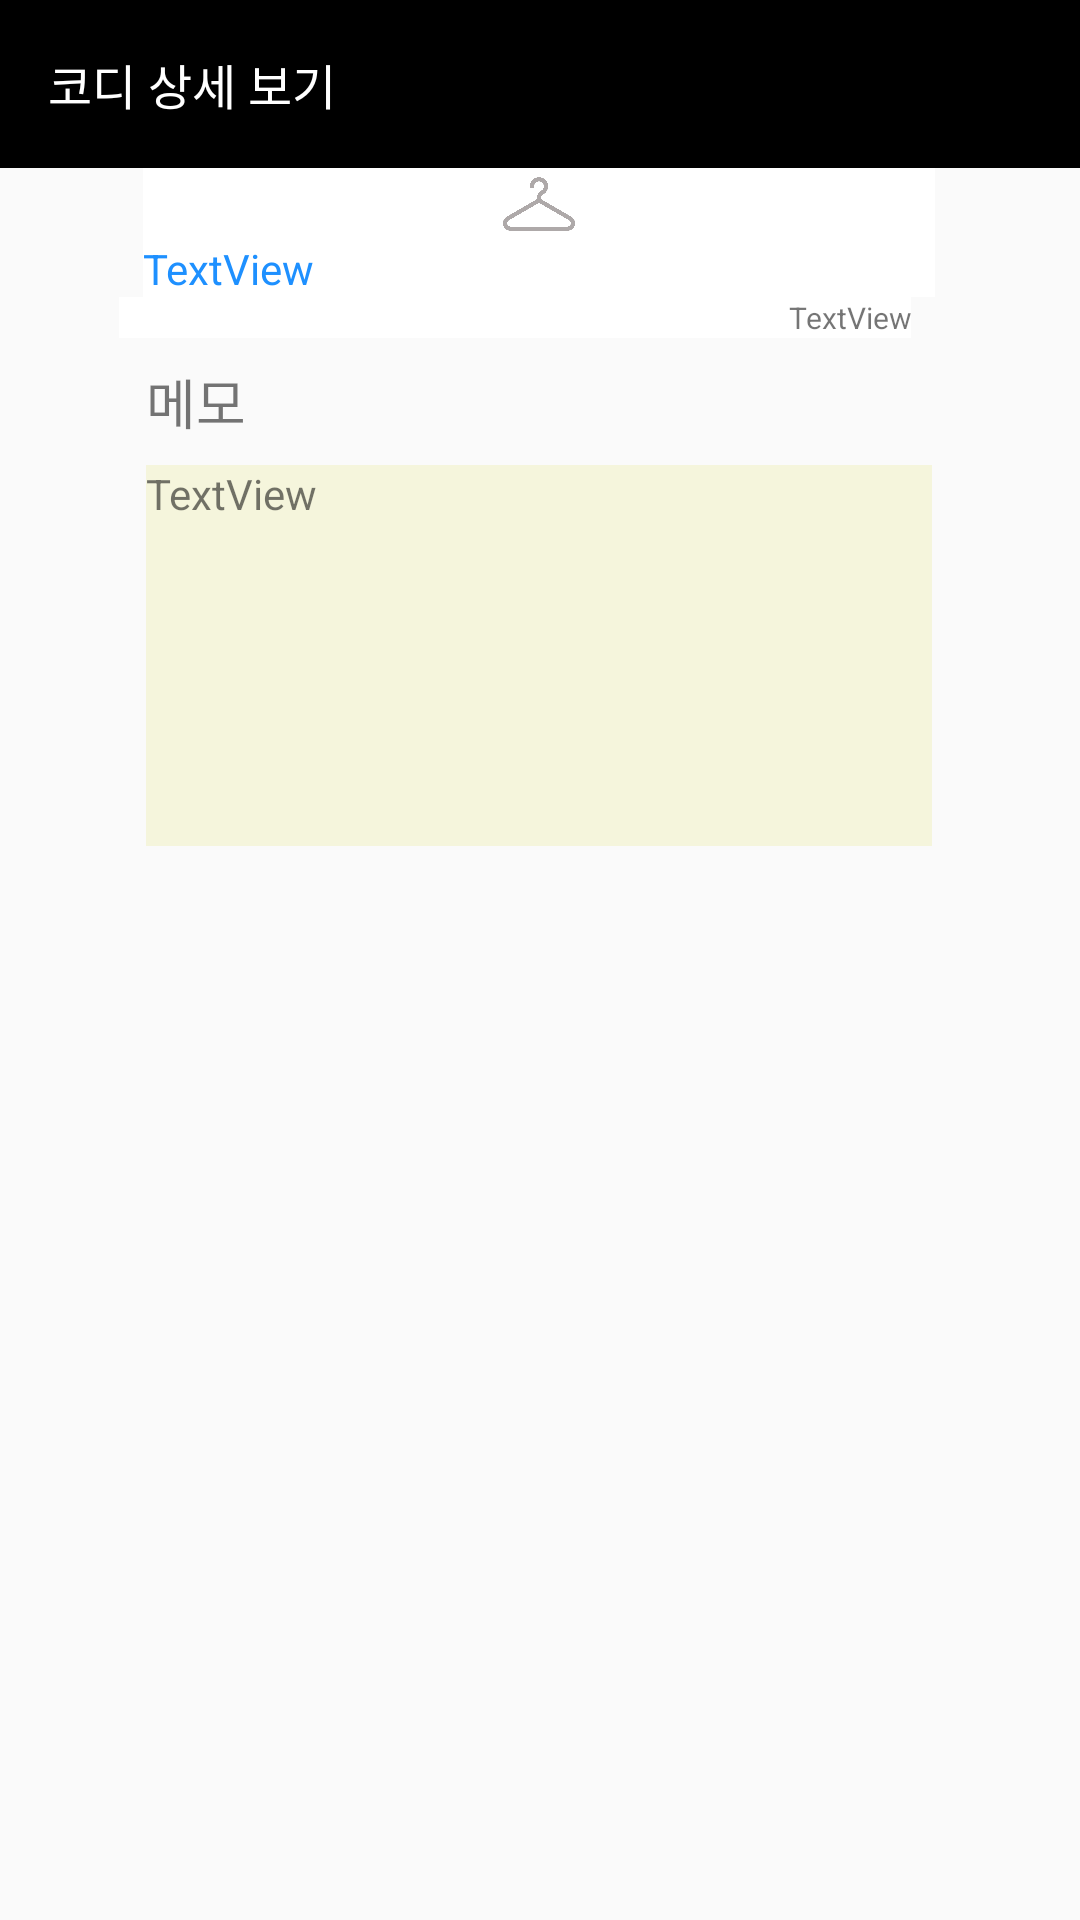

Screen size 1080 × 1920. Icon name, then its center in pixels as (x,y):
clothes hanger: (539,204)
